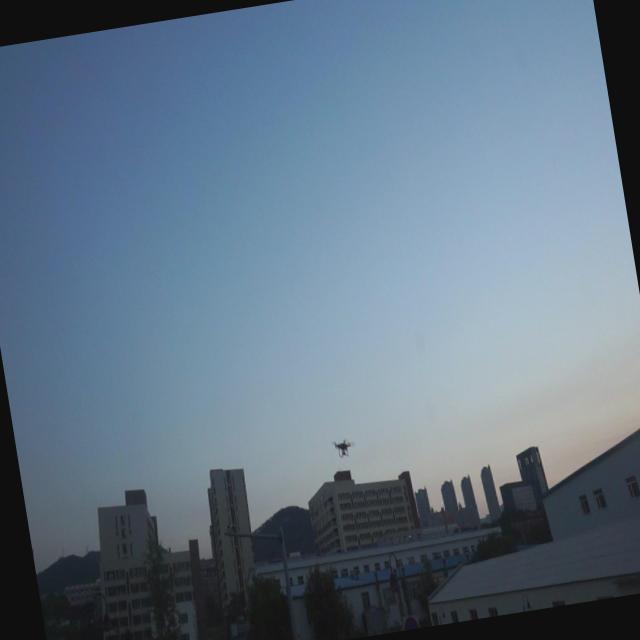drone: (330, 434, 359, 464)
